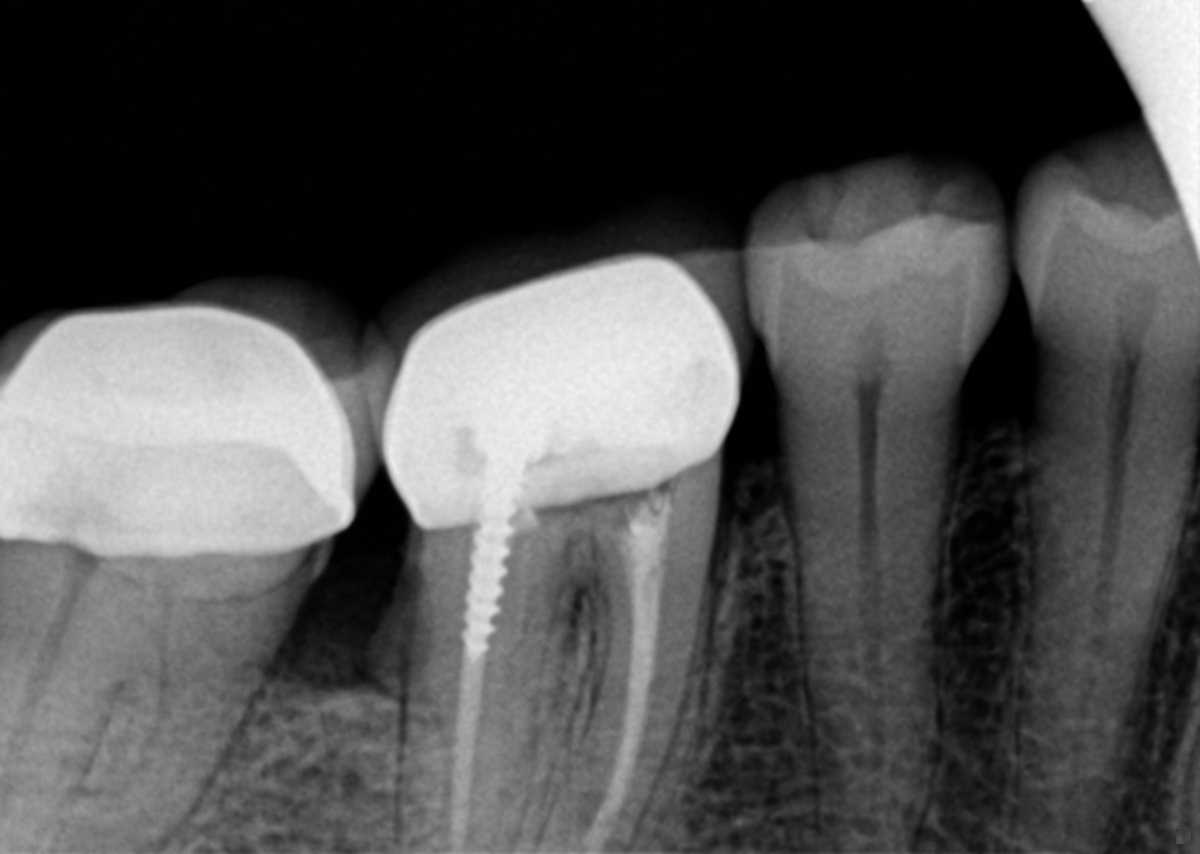Distal Canal: (0, 643, 62, 791)
Distal Root: (395, 511, 569, 854), (0, 630, 122, 854)
Main Canal: (1055, 377, 1141, 842), (857, 394, 887, 839)
Main Root: (1008, 367, 1200, 854), (782, 382, 954, 854)
Mesial Canal: (105, 674, 172, 800)
Mesial Root: (530, 462, 720, 854), (49, 663, 259, 854)
Root Canal Filling: (580, 492, 674, 847), (447, 658, 486, 850)
